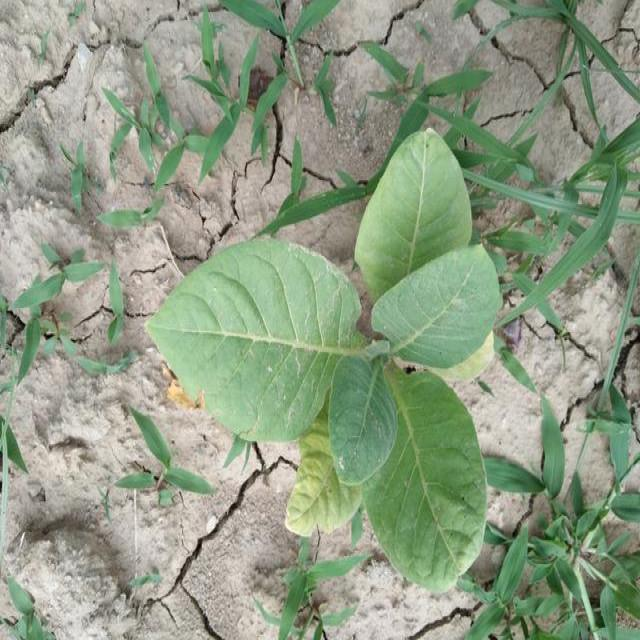crop: (138, 119, 502, 599)
